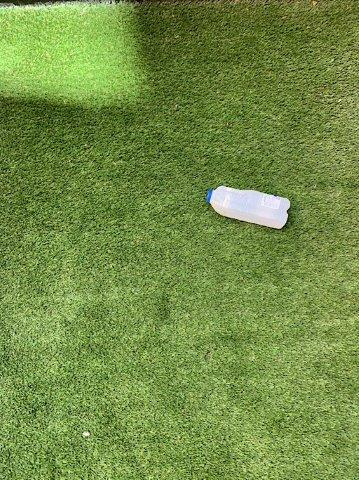botolplastik: (207, 187, 290, 227)
